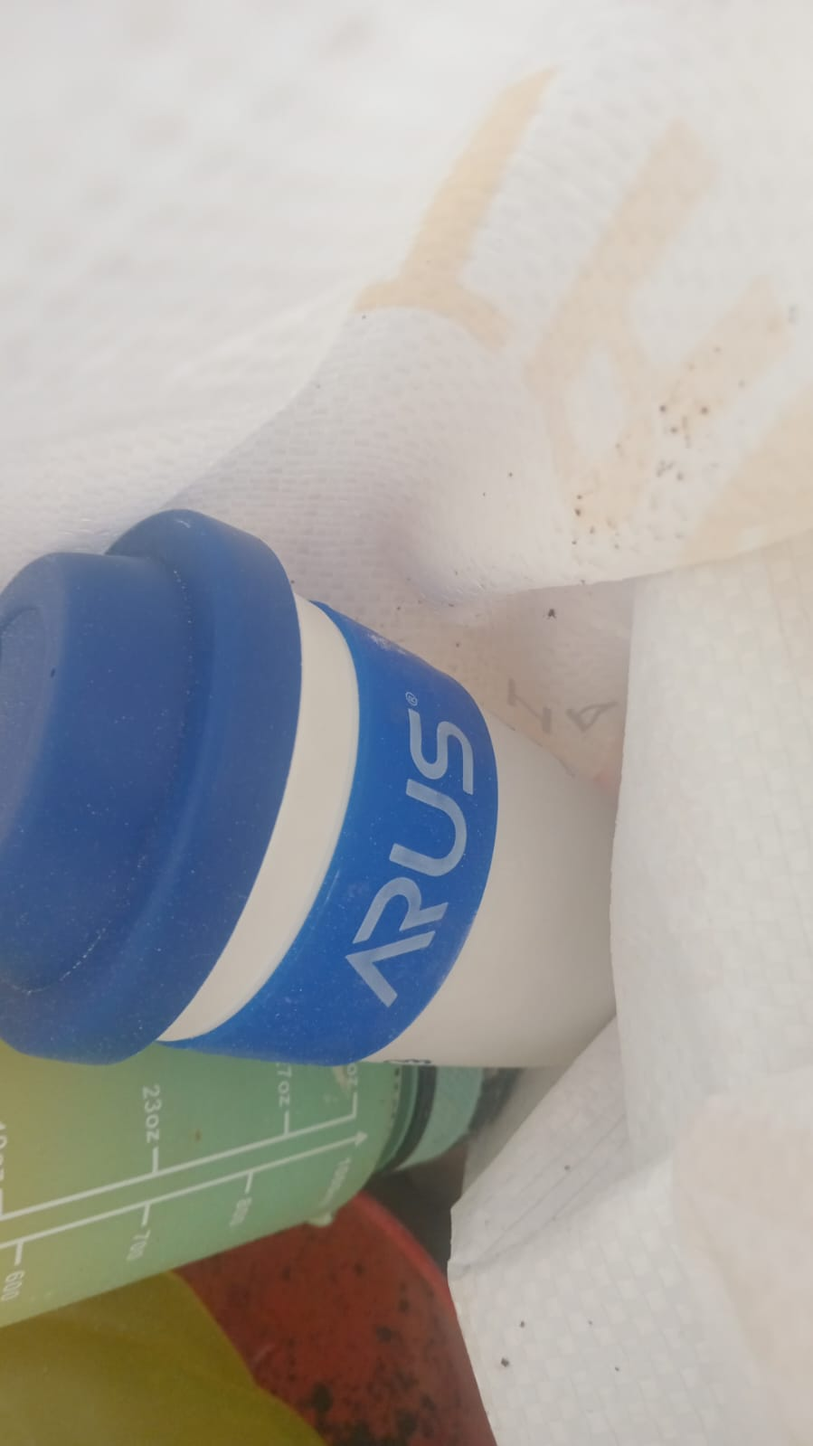Ordinario: (0, 508, 686, 1063)
